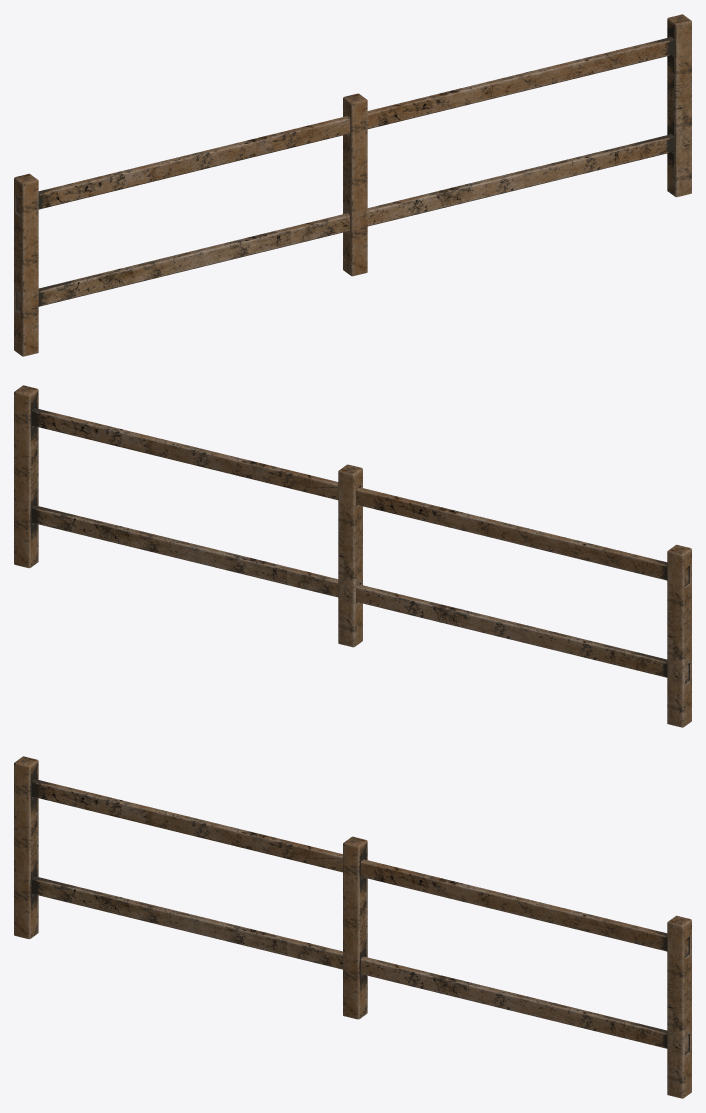
Rendered from wood_fence.glb.
The picture shows the model from 3 angles, top to bottom: view 1: azimuth 30°, elevation 25°; view 2: azimuth 150°, elevation 25°; view 3: azimuth 330°, elevation 25°; orthographic projection.
Parts seen in each view (by area): view 1: wood_fence; view 2: wood_fence; view 3: wood_fence.
Part boxes in pixels (x1=…): wood_fence: x1=14, y1=14, x2=691, y2=356; wood_fence: x1=14, y1=385, x2=691, y2=727; wood_fence: x1=14, y1=756, x2=691, y2=1098.
Bounding box in the file's own units: 4.05 × 1 × 0.1.
1 material, 1 textured.
